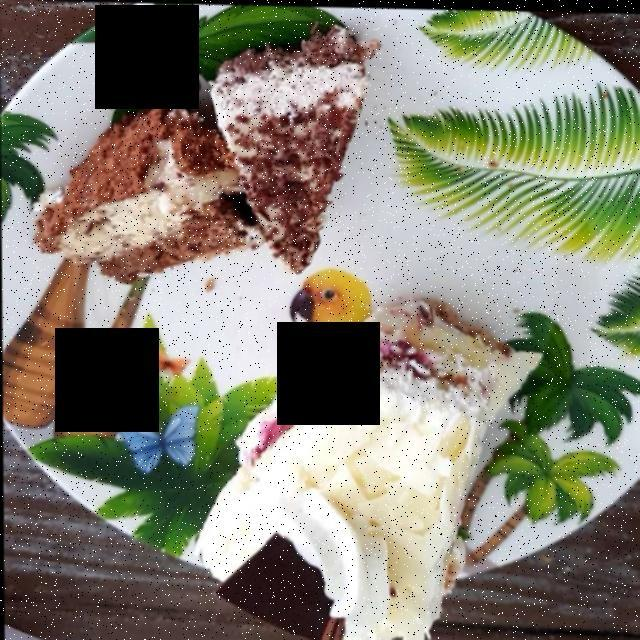almonds: (265, 398, 471, 609)
chocolate: (208, 541, 342, 640)
cream: (215, 462, 393, 624)
tart: (28, 24, 374, 279)
